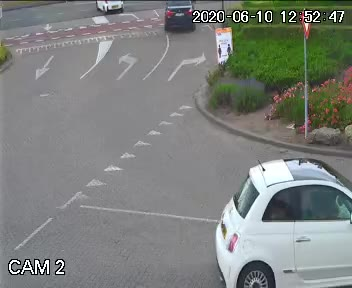car: (211, 145, 352, 288), (157, 0, 196, 38), (88, 0, 127, 13)
